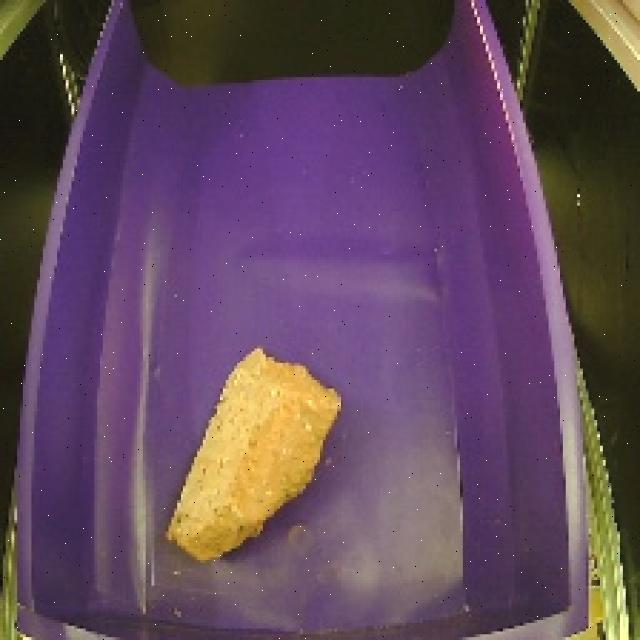brick: (159, 339, 348, 567)
